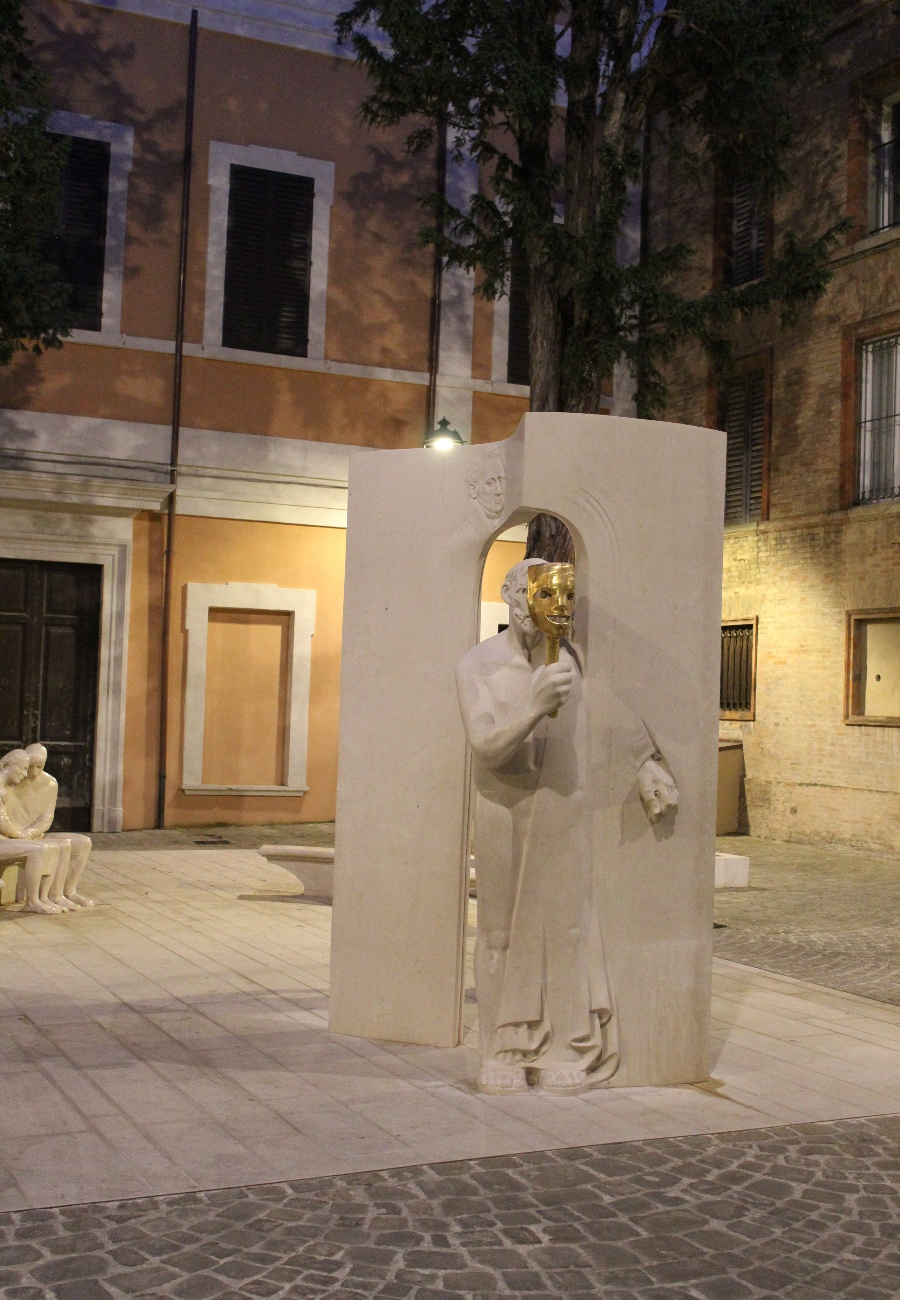Scultura della Memoria: (456, 558, 682, 1093)
